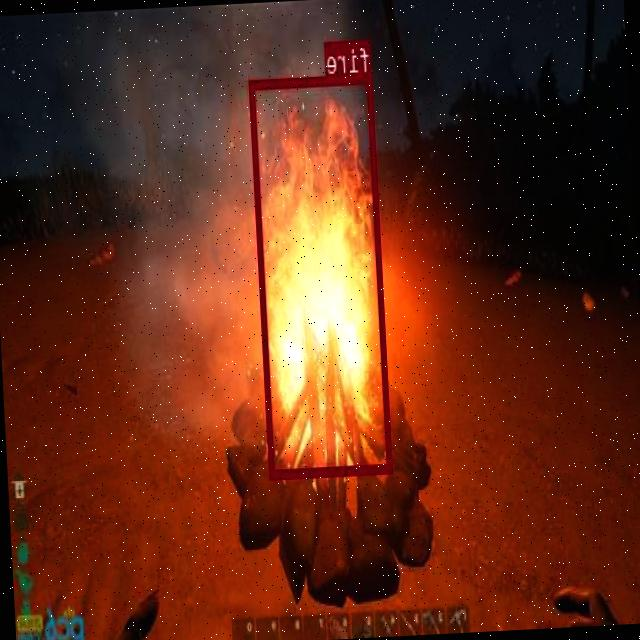fire: (250, 71, 393, 478)
